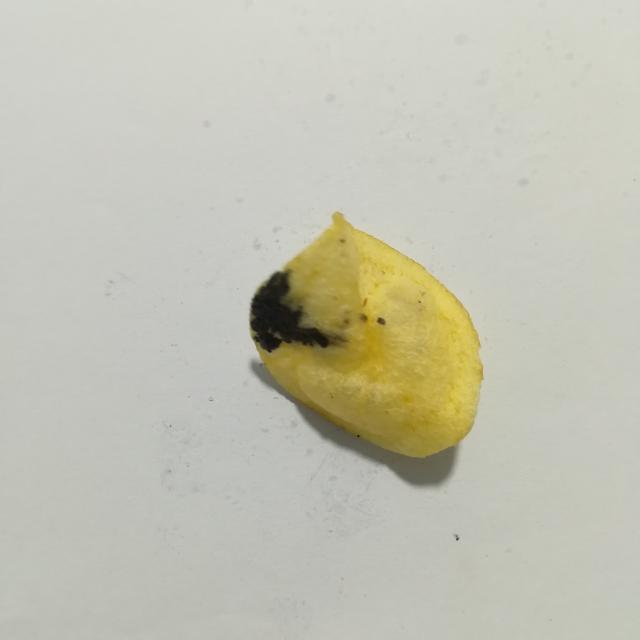chip: (249, 213, 482, 457)
damaged: (250, 269, 343, 352), (377, 318, 385, 325)
